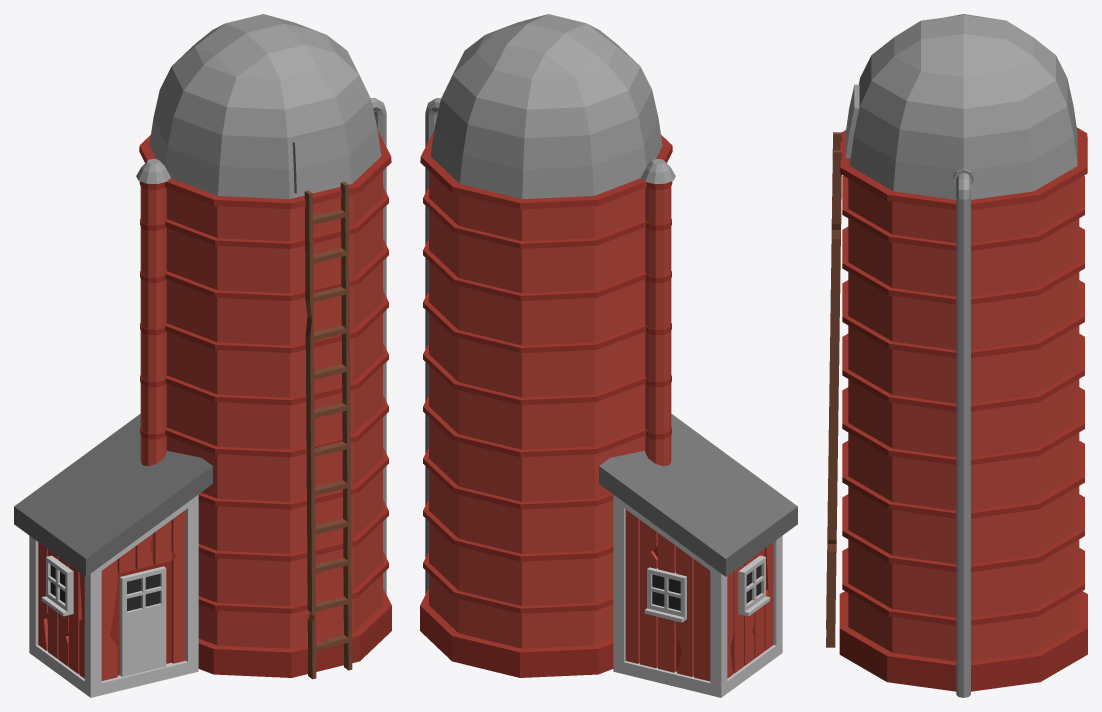
The model's file is silo-house.glb.
The picture shows the model from 3 angles, left to right: view 1: azimuth 30°, elevation 25°; view 2: azimuth 150°, elevation 25°; view 3: azimuth 270°, elevation 25°; orthographic projection. The views are drawn at different scales.
Visible parts, largest first — view 1: Silo_House; view 2: Silo_House; view 3: Silo_House.
Boxes of the visible parts, x1,y1,x2,y2 form: Silo_House: (14,14,391,697); Silo_House: (420,14,797,697); Silo_House: (826,14,1087,697).
Size of the model in its own units: 5.34 by 9.07 by 3.51.
